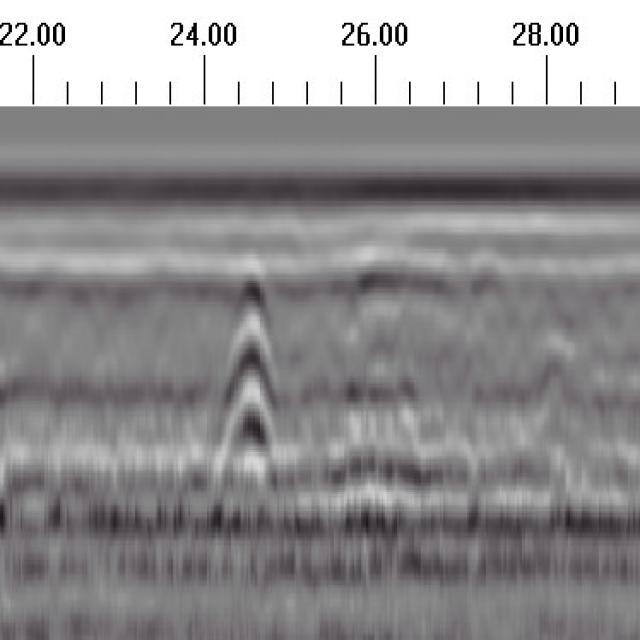crack: (222, 252, 282, 474)
